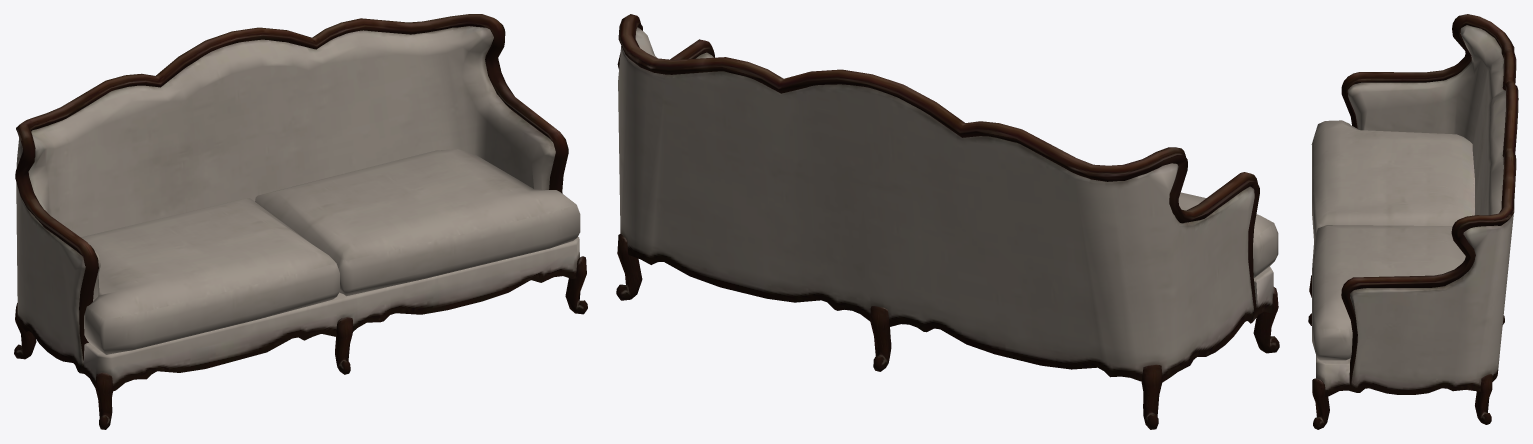
File: sofa.glb
The picture shows the model from 3 angles, left to right: view 1: azimuth 30°, elevation 25°; view 2: azimuth 150°, elevation 25°; view 3: azimuth 270°, elevation 25°; orthographic projection. The views are drawn at different scales.
Parts seen in each view (by area): view 1: Sofa_01; view 2: Sofa_01; view 3: Sofa_01.
Boxes of the visible parts, x1=… form: Sofa_01: x1=14, y1=14, x2=587, y2=429; Sofa_01: x1=616, y1=14, x2=1279, y2=429; Sofa_01: x1=1308, y1=14, x2=1518, y2=429.
Size of the model in its own units: 1.57 by 0.7954 by 0.658.
1 material, 1 textured.
